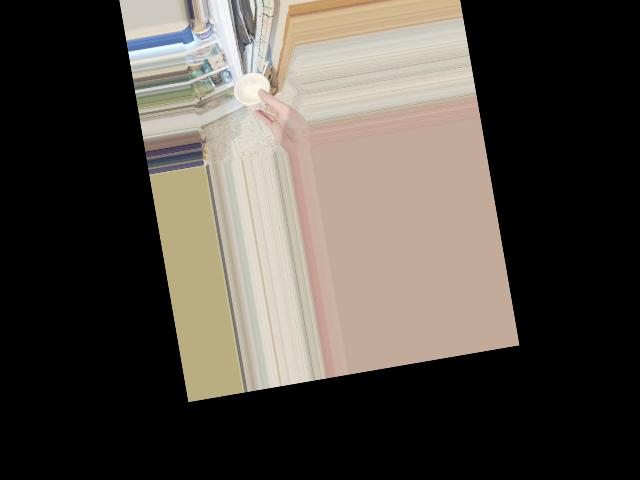cotage: (237, 68, 275, 112)
